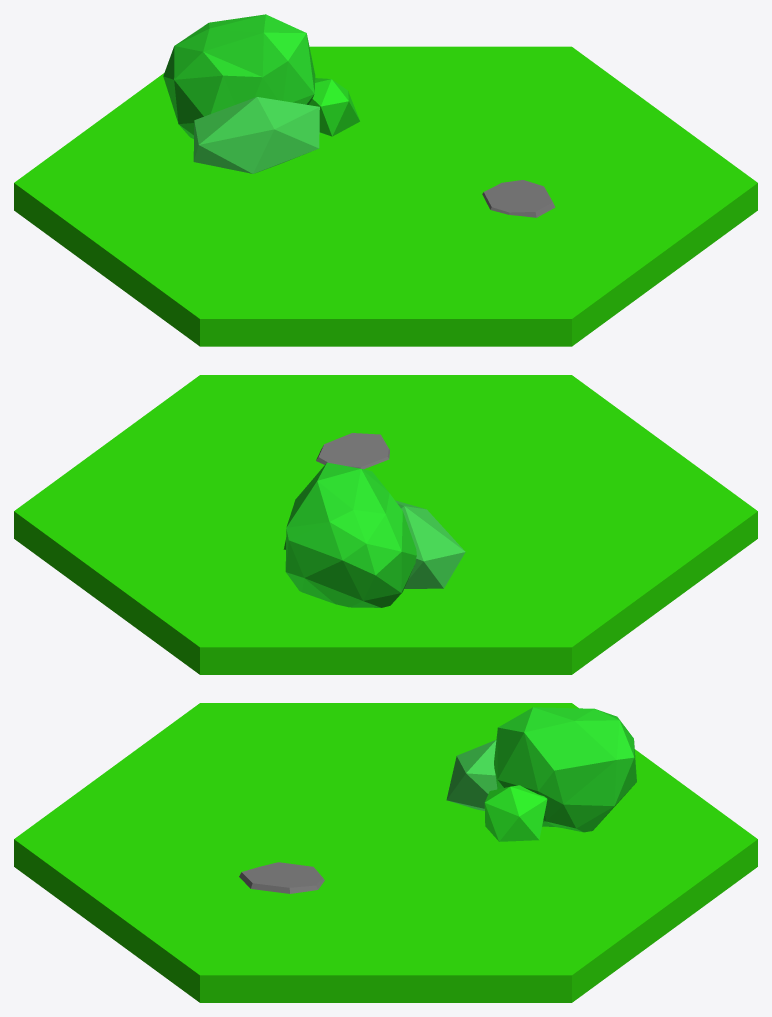
The model's file is green2.glb.
3 renders of one model, top to bottom at view 1: azimuth 30°, elevation 25°; view 2: azimuth 150°, elevation 25°; view 3: azimuth 270°, elevation 25°, orthographic.
Parts seen in each view (by area): view 1: Cylinder.026; view 2: Cylinder.026; view 3: Cylinder.026.
Boxes of the visible parts, left/top/right/bottom form: Cylinder.026: left=14, top=14, right=757, bottom=346; Cylinder.026: left=14, top=375, right=757, bottom=674; Cylinder.026: left=14, top=703, right=757, bottom=1002.
Bounding box in the file's own units: 0.9458 × 0.2199 × 1.09.
